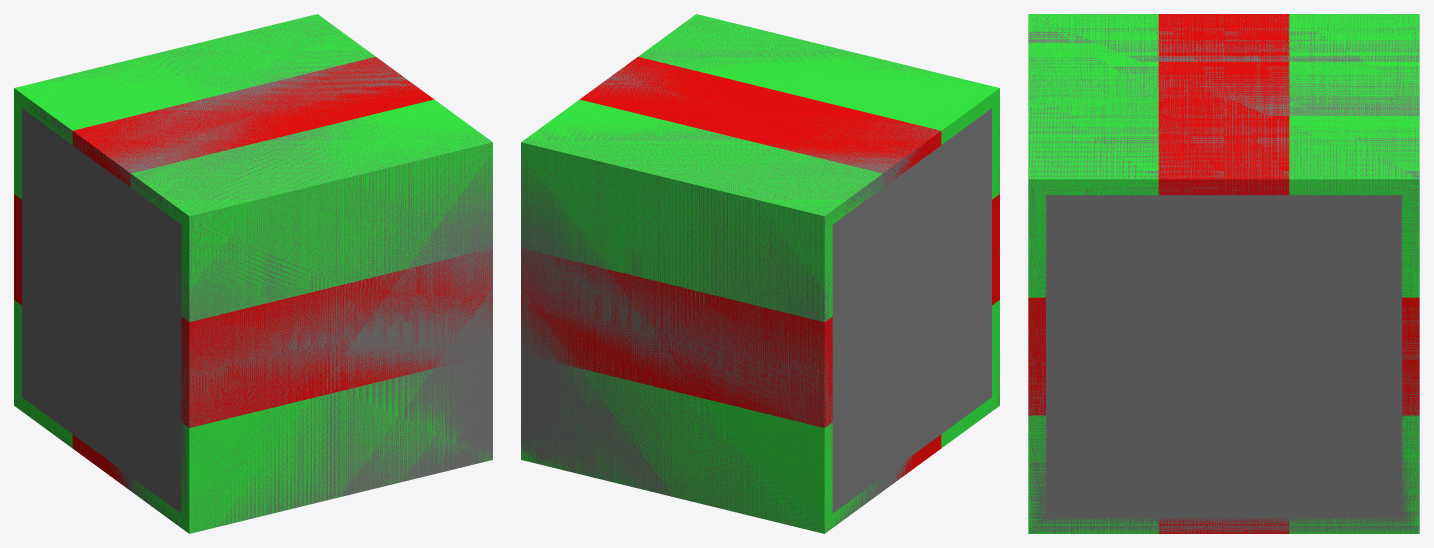
File: TestFBXExport.fbx
3 views of the same model, side by side, from view 1: azimuth 30°, elevation 25°; view 2: azimuth 150°, elevation 25°; view 3: azimuth 270°, elevation 25° (orthographic). The views are drawn at different scales.
Parts seen in each view (by area): view 1: Component Volume, Shelf TL, Shelf L, Shelf BL, Shelf TR, Shelt T, Shelf BR, Shelf R, Shelf B; view 2: Component Volume, Shelf TR, Shelf R, Shelf BR, Shelf TL, Shelt T, Shelf BL, Shelf L, Shelf B; view 3: Component Volume, Shelf TL, Shelf TR, Shelt T, Shelf BR, Shelf BL, Shelf R, Shelf L, Shelf B.
Boxes of the visible parts, left/top/right/bottom form: Component Volume: left=14, top=14, right=492, bottom=532; Shelf TL: left=131, top=99, right=492, bottom=321; Shelf L: left=181, top=249, right=492, bottom=427; Shelf BL: left=131, top=366, right=492, bottom=533; Shelf TR: left=14, top=14, right=375, bottom=199; Shelt T: left=72, top=57, right=433, bottom=187; Shelf BR: left=14, top=300, right=72, bottom=447; Shelf R: left=14, top=194, right=21, bottom=305; Shelf B: left=72, top=434, right=130, bottom=490; Component Volume: left=521, top=14, right=999, bottom=533; Shelf TR: left=521, top=99, right=882, bottom=321; Shelf R: left=521, top=248, right=832, bottom=427; Shelf BR: left=521, top=361, right=877, bottom=533; Shelf TL: left=638, top=14, right=999, bottom=199; Shelt T: left=580, top=57, right=941, bottom=184; Shelf BL: left=941, top=300, right=999, bottom=448; Shelf L: left=992, top=194, right=999, bottom=305; Shelf B: left=892, top=434, right=941, bottom=482; Component Volume: left=1028, top=14, right=1419, bottom=533; Shelf TL: left=1028, top=14, right=1158, bottom=297; Shelf TR: left=1289, top=14, right=1419, bottom=297; Shelt T: left=1158, top=14, right=1289, bottom=195; Shelf BR: left=1289, top=415, right=1419, bottom=533; Shelf BL: left=1028, top=415, right=1158, bottom=533; Shelf R: left=1402, top=297, right=1419, bottom=415; Shelf L: left=1028, top=297, right=1045, bottom=415; Shelf B: left=1158, top=518, right=1289, bottom=533.
Bounding box in the file's own units: 0.4 × 0.4 × 0.4.
